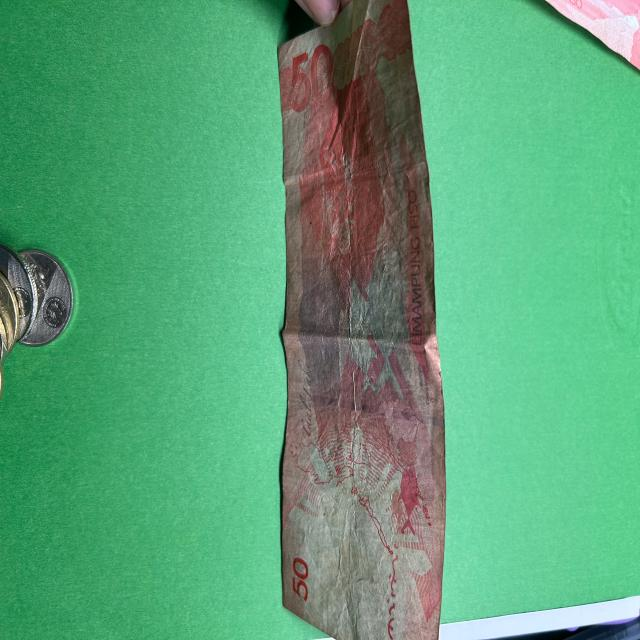security_thread: (288, 380, 444, 435)
value: (292, 34, 338, 128)
